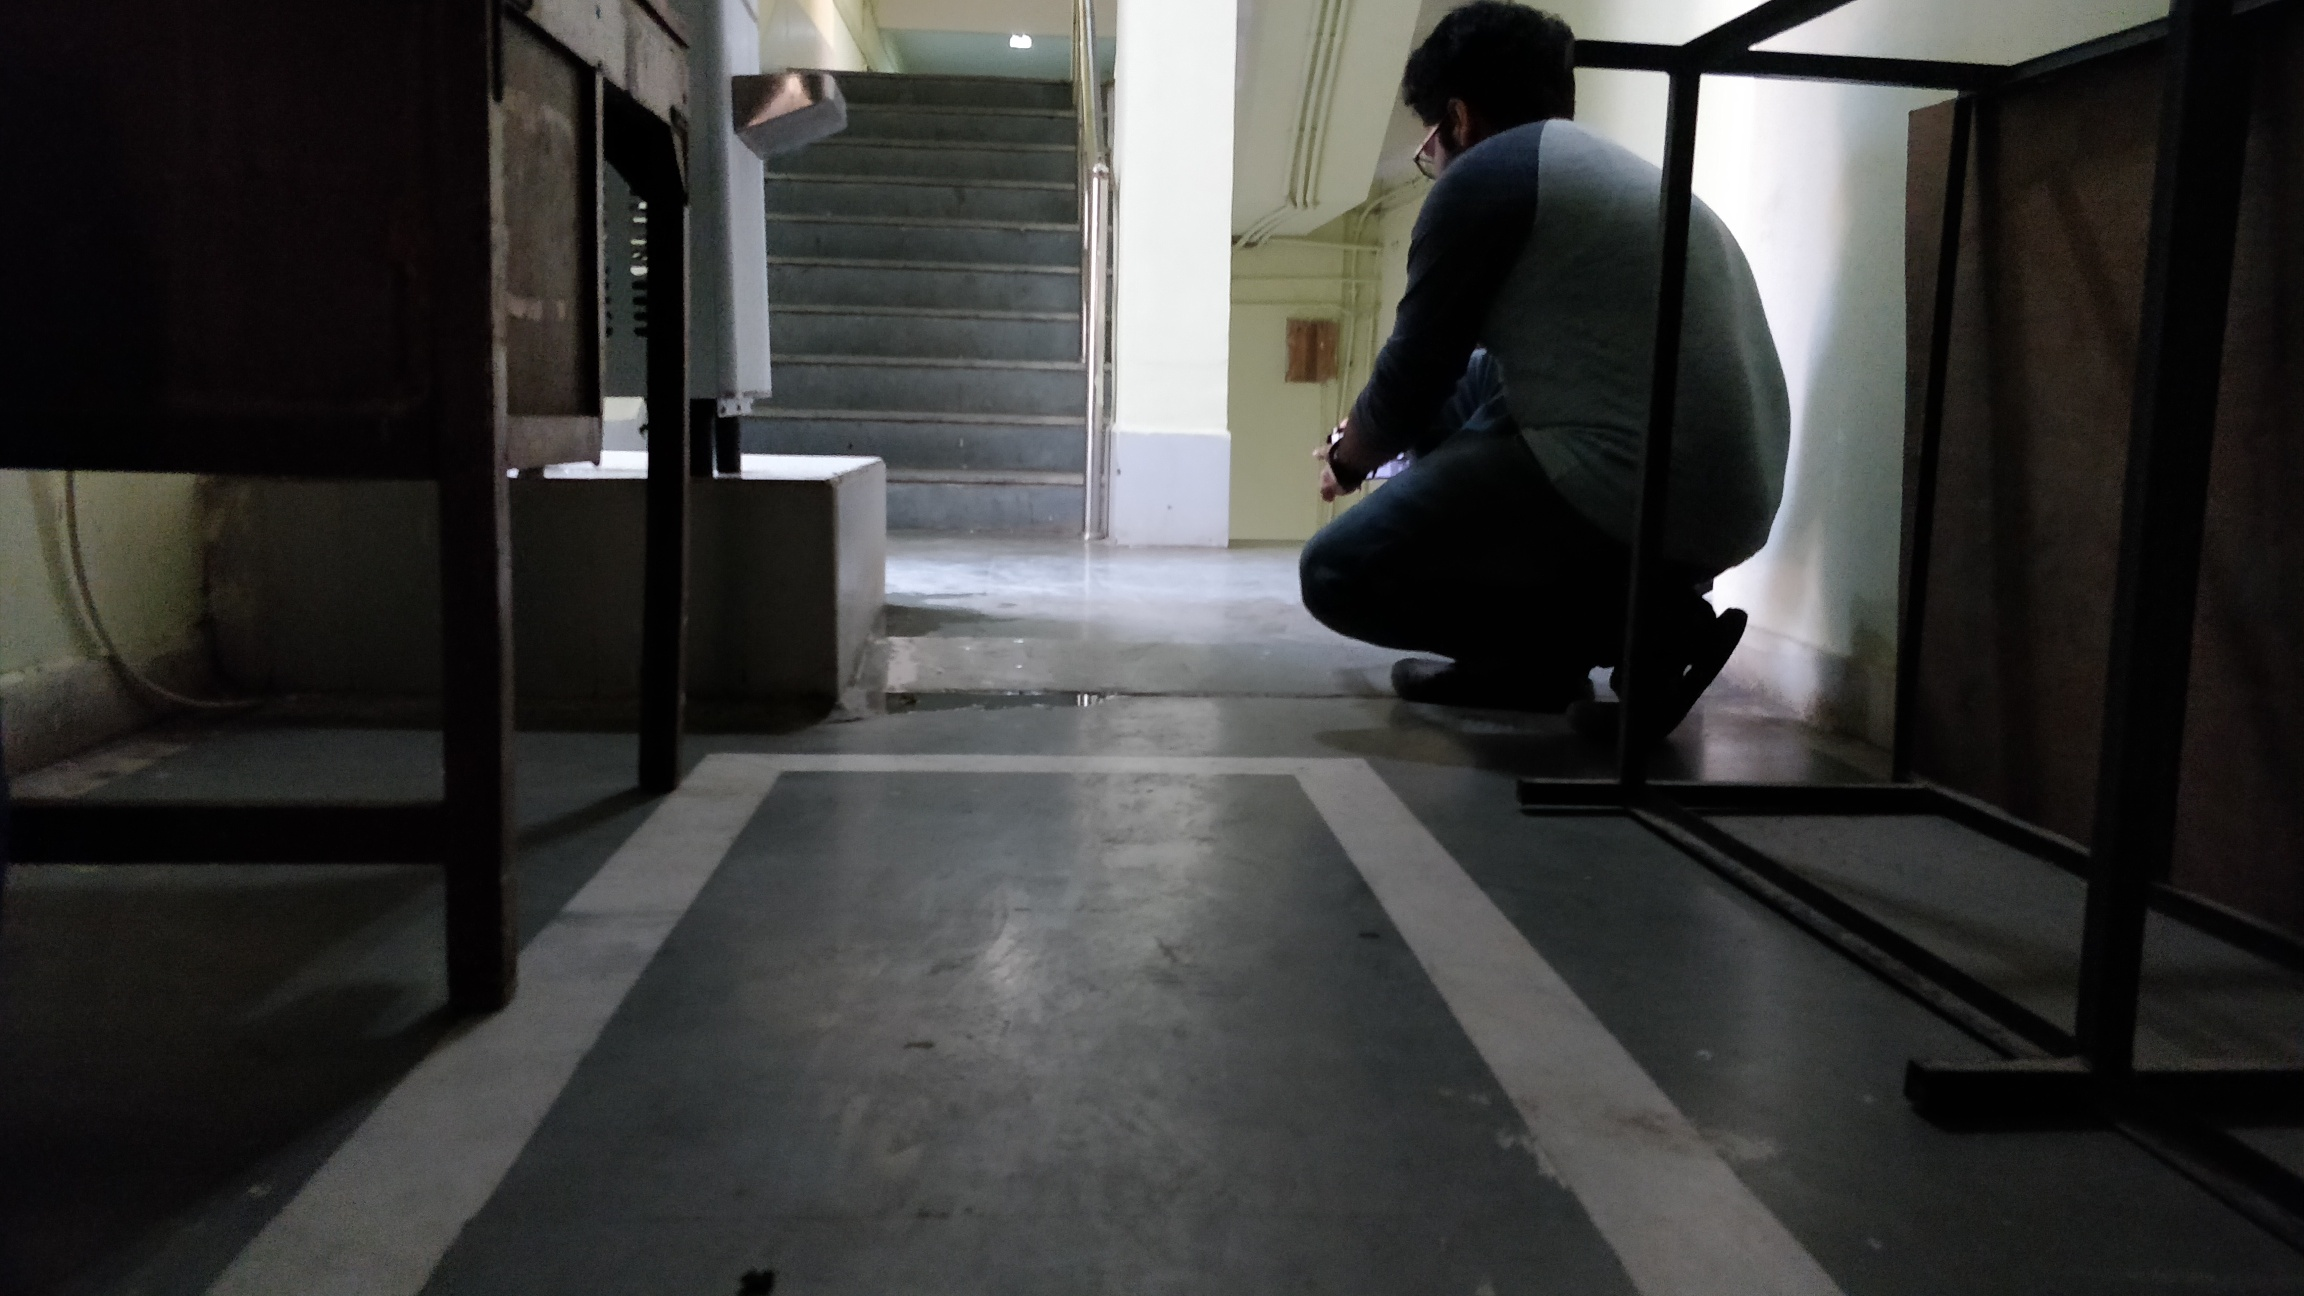stairs_up: (718, 81, 1067, 567)
